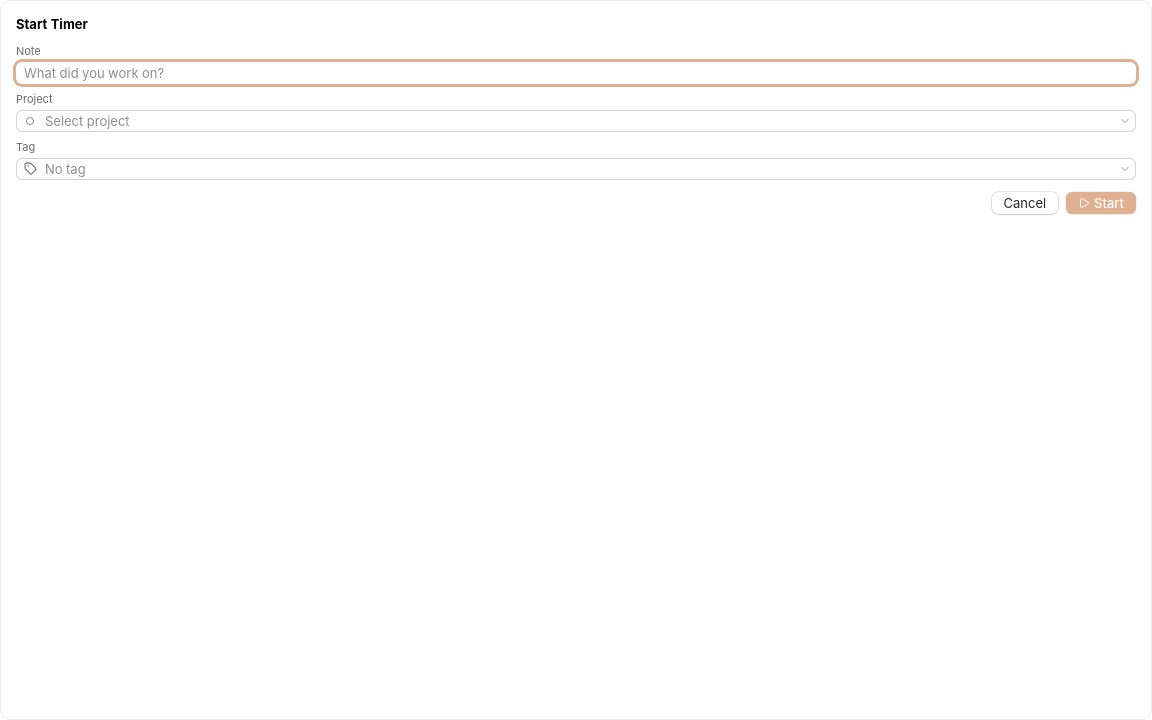
Test: TimerPicker › without a running timer › shows the start form with Start disabled until a project is chosen
Expected: the heading "Start Timer" is shown, [16,16,88,32]
Expected: the button "Start" is disabled, [1066,192,1136,214]
Click the dropdown labelled "project" at (576, 121), box [45,110,1106,132]
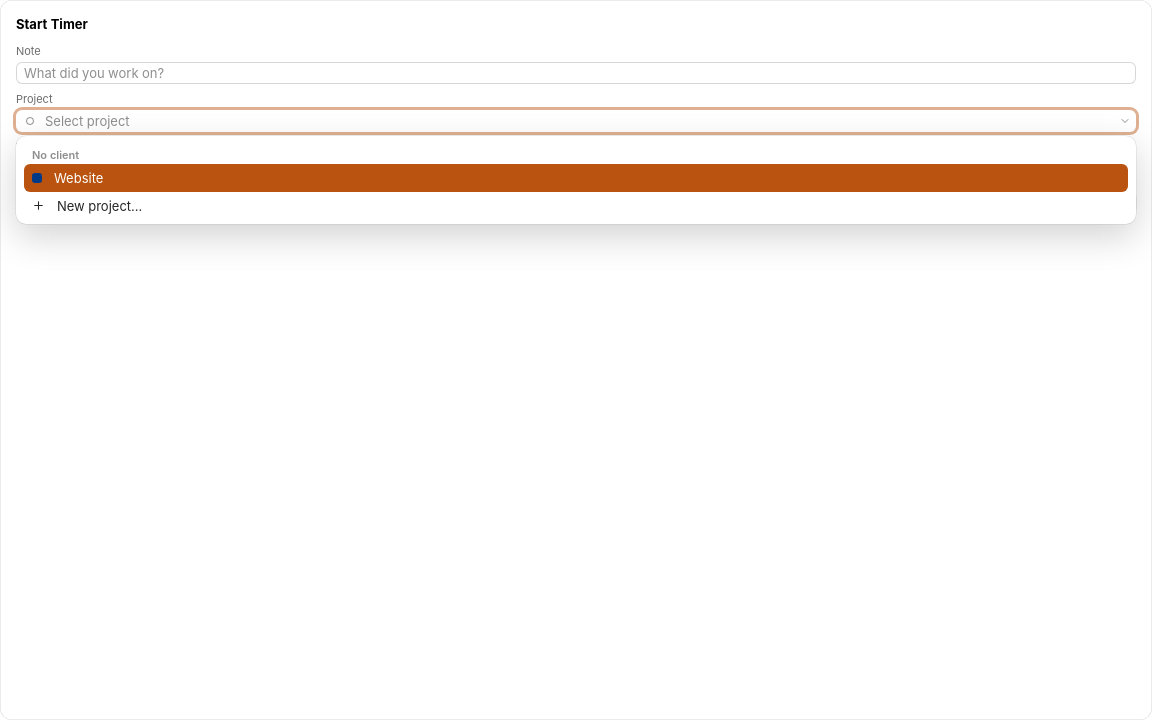
Type keys "Web{Enter}"
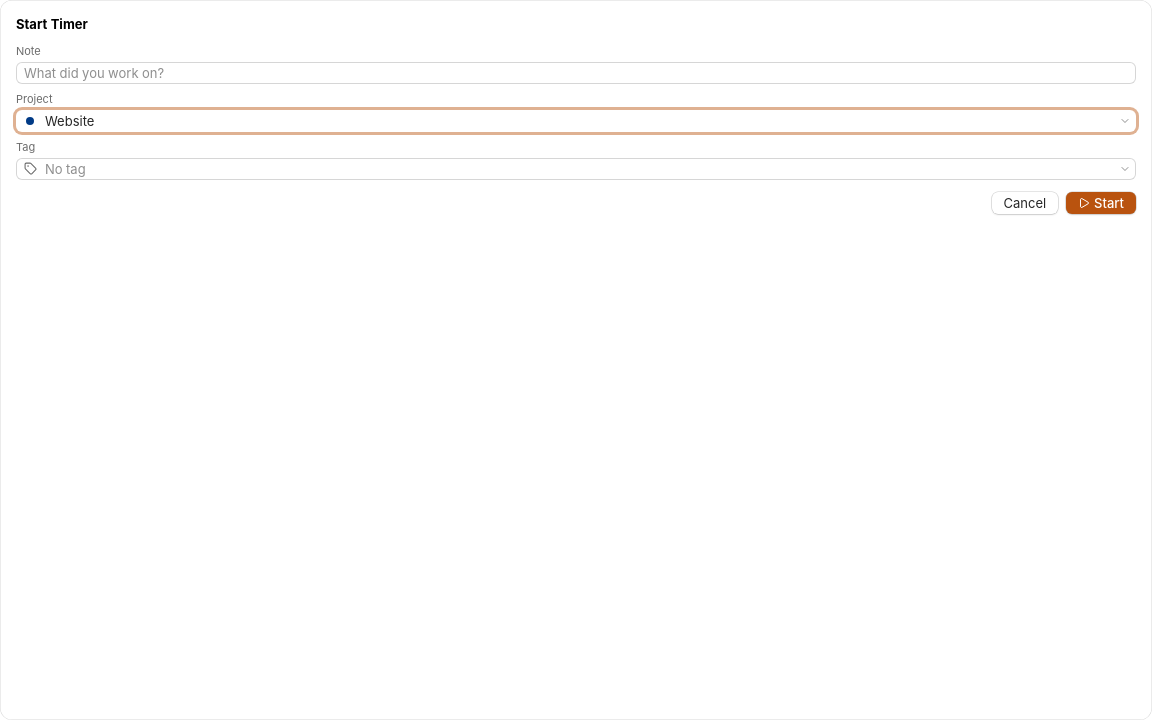
Result: the button "Start" is enabled at [1066,192,1136,214]
